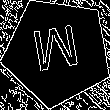M_S: (30, 23, 85, 81)
